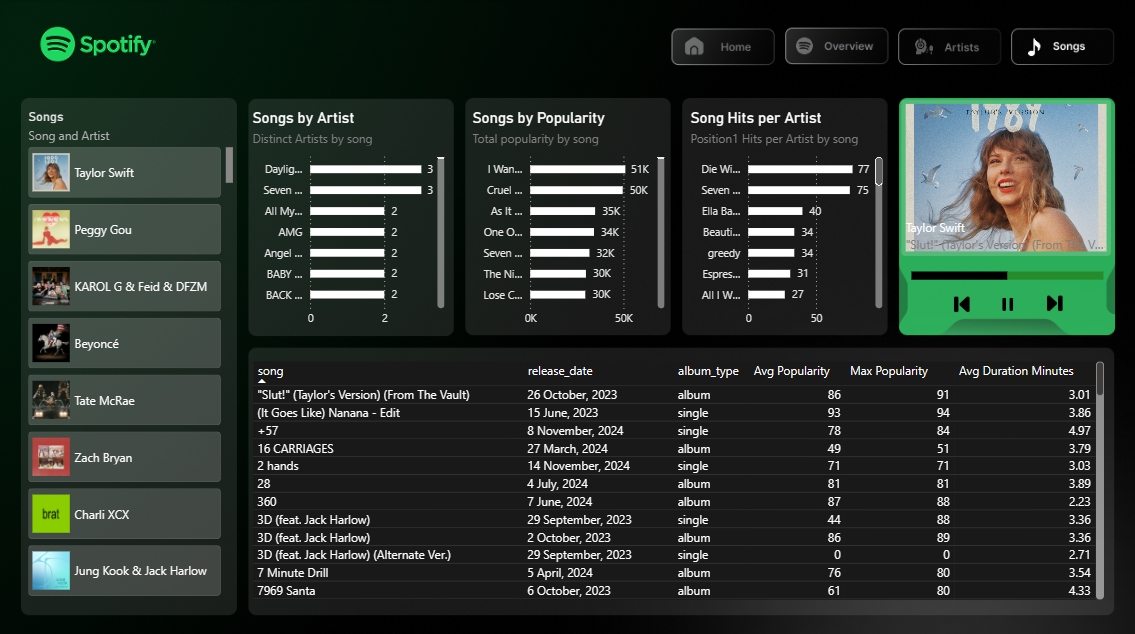

What the dashboard file says about the page in this screenshot:
{"tool":"powerbi","page":{"name":"Songs","canvas":[1280,720],"ordinal":3},"visuals":[{"type":"actionButton","box":[883.1,34.9,118.1,40.5],"z":0},{"type":"actionButton","box":[1012.5,34.9,109.1,40.5],"z":1000},{"type":"actionButton","box":[1139.6,34.9,118.1,40.5],"z":2000},{"type":"actionButton","box":[753.8,34.9,118.1,40.5],"z":3000},{"type":"advancedSlicerVisual","title":"Songs","fields":{"Values":["Top-50-world.song"]},"box":[990,108,286.9,186.8],"z":4000},{"type":"hundredPercentStackedBarChart","fields":{"Y":["Avg(Top-50-world.popularity)","_Measure.Avg Popularity"]},"box":[1020.9,267.9,226.2,81],"z":5000},{"type":"image","box":[1062.6,328.6,40,30],"z":6000},{"type":"image","box":[1167.8,327.4,40,30],"z":7000},{"type":"image","box":[1115.2,328,40,30],"z":8000},{"type":"shape","box":[1017,108,230.6,300.4],"z":9000},{"type":"clusteredBarChart","title":"Songs by Artist","fields":{"Category":["Top-50-world.song"],"Y":["_Measure.Distinct Artists"]},"box":[280.1,123.8,226.1,253.1],"z":10000},{"type":"clusteredBarChart","title":"Songs by Popularity","fields":{"Category":["Top-50-world.song"],"Y":["Sum(Top-50-world.popularity)"]},"box":[527.4,123.7,226.4,253.2],"z":11000},{"type":"advancedSlicerVisual","title":"Songs","fields":{"Values":["Top-50-world.song"]},"box":[28.1,123.8,240.8,556.9],"z":12000},{"type":"clusteredBarChart","title":"Song Hits per Artist","fields":{"Category":["Top-50-world.song"],"Y":["_Measure.Position1 Hits per Artist"]},"box":[772.9,123.8,226.1,253.1],"z":13000},{"type":"tableEx","fields":{"Values":["Top-50-world.song","Top-50-world.release_date","Top-50-world.album_type","_Measure.Avg Popularity","_Measure.Max Popularity","_Measure.Avg Duration Minutes"]},"box":[280,402.6,968.5,277.7],"z":14000}]}

Visuals, with their boxes in screenshot pixels (x1, y1, x2, y2), scaled from the page's 1280x720 canvas onto the 1135x634 screenshot:
actionButton: left=783, top=31, right=888, bottom=66
actionButton: left=898, top=31, right=995, bottom=66
actionButton: left=1011, top=31, right=1115, bottom=66
actionButton: left=668, top=31, right=773, bottom=66
"Songs" advancedSlicerVisual: left=878, top=95, right=1132, bottom=260
hundredPercentStackedBarChart - Avg(Top-50-world.popularity) x _Measure.Avg Popularity: left=905, top=236, right=1106, bottom=307
image: left=942, top=289, right=978, bottom=316
image: left=1036, top=288, right=1071, bottom=315
image: left=989, top=289, right=1024, bottom=315
shape: left=902, top=95, right=1106, bottom=360
"Songs by Artist" clusteredBarChart: left=248, top=109, right=449, bottom=332
"Songs by Popularity" clusteredBarChart: left=468, top=109, right=668, bottom=332
"Songs" advancedSlicerVisual: left=25, top=109, right=238, bottom=599
"Song Hits per Artist" clusteredBarChart: left=685, top=109, right=886, bottom=332
tableEx - Top-50-world.song x Top-50-world.release_date: left=248, top=355, right=1107, bottom=599
